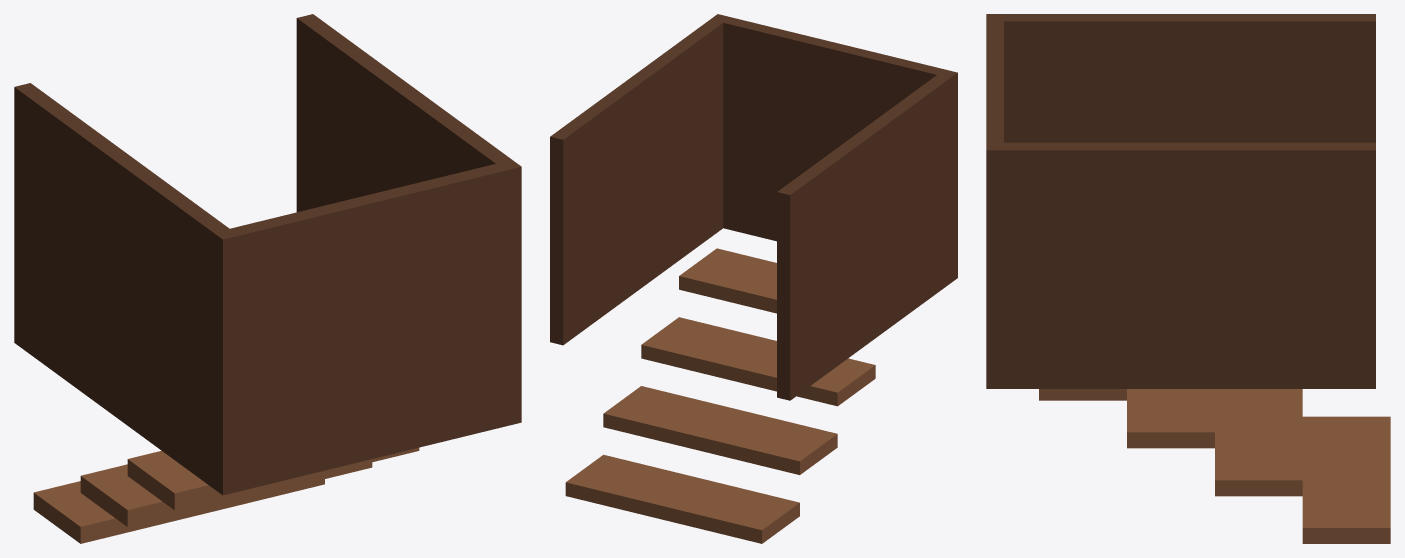
File: attic_exit.glb
3 views of the same model, side by side, from view 1: azimuth 30°, elevation 25°; view 2: azimuth 150°, elevation 25°; view 3: azimuth 270°, elevation 25° (orthographic). The views are drawn at different scales.
Visible parts, largest first — view 1: Box5, Box7, Box6, Box3, Box4, Box2; view 2: Box7, Box6, Box5, Box3, Box4, Box2, Box1; view 3: Box6, Box7, Box4, Box3, Box5, Box2, Box1.
Part boxes in pixels (x1,y1,x2,y2): Box5: (213, 160, 521, 495); Box7: (14, 83, 229, 487); Box6: (296, 14, 515, 212); Box3: (80, 462, 372, 526); Box4: (33, 479, 324, 543); Box2: (127, 447, 419, 510); Box7: (777, 72, 950, 400); Box6: (550, 19, 724, 345); Box5: (710, 14, 957, 283); Box3: (603, 386, 837, 474); Box4: (565, 454, 799, 543); Box2: (641, 317, 875, 406); Box1: (679, 248, 776, 313); Box6: (995, 142, 1375, 388); Box7: (995, 14, 1375, 142); Box4: (1302, 416, 1390, 543); Box3: (1215, 389, 1302, 496); Box5: (986, 14, 1003, 388); Box2: (1127, 389, 1214, 448); Box1: (1039, 389, 1126, 400).
Size of the model in its own units: 1.1 by 1.53 by 1.38.
